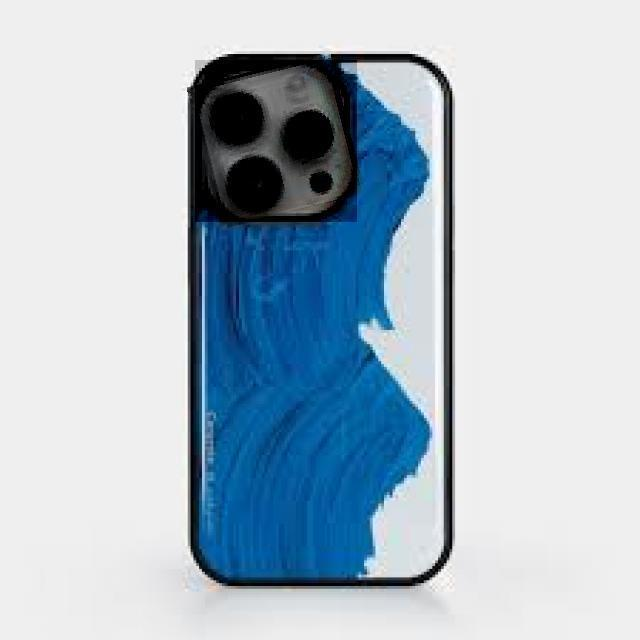phone: (178, 50, 457, 591)
